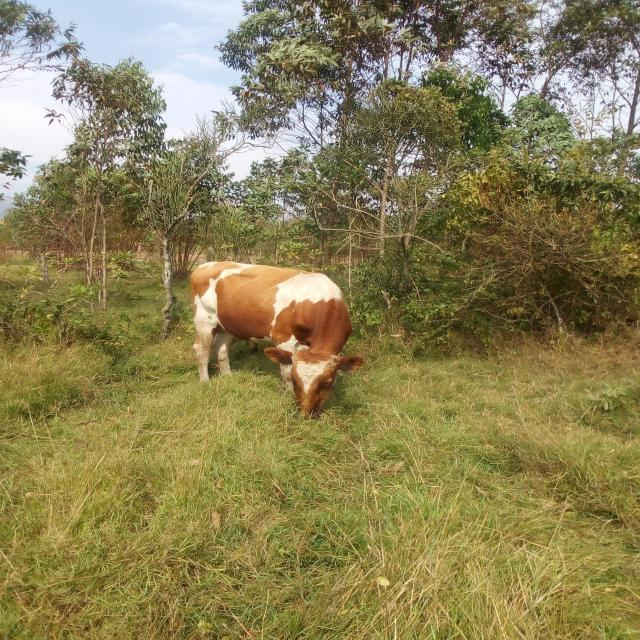Front: (190, 261, 365, 418)
